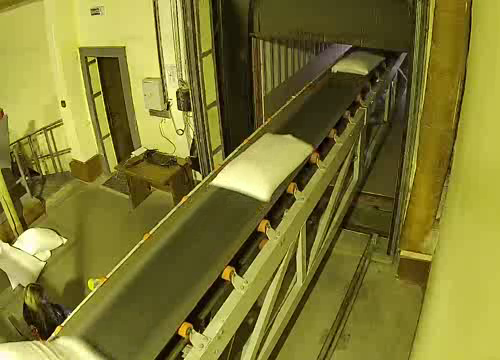bag: (206, 125, 318, 208), (0, 326, 117, 360), (330, 45, 390, 79)
